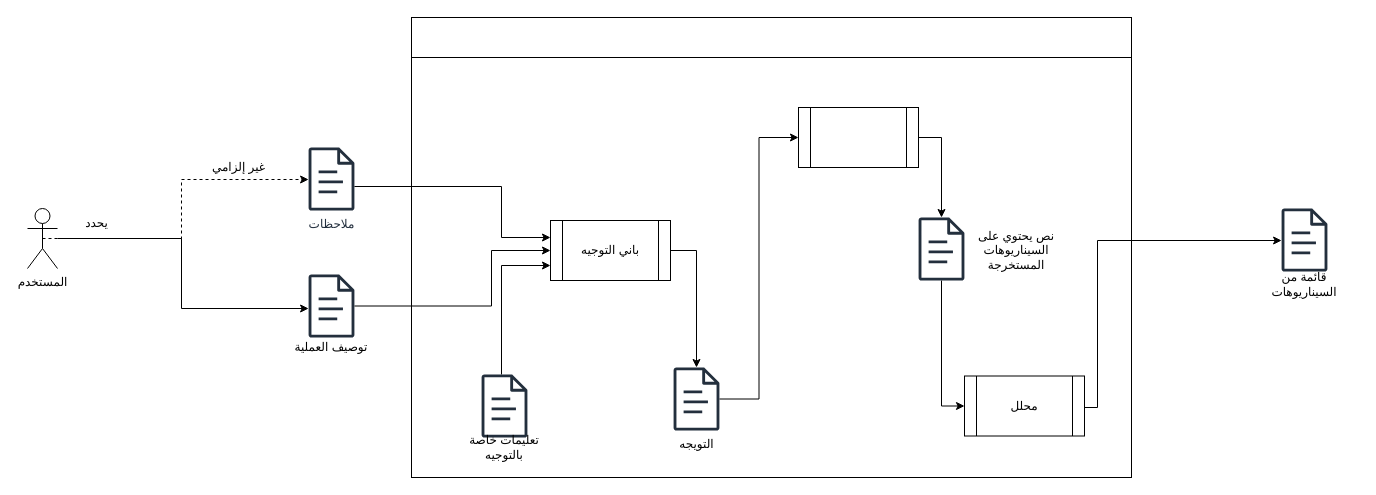
Image size: 1376x495. Some labels were removed from this diagram. The box of each missing label's shape, as (x1, y1, x2, y2) in pixels:
الخطوة الأولى: (410, 16, 1132, 58)
نموذج لغوي: (798, 106, 918, 168)
